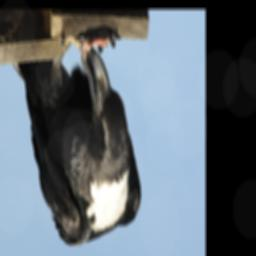Crow: (12, 29, 143, 252)
